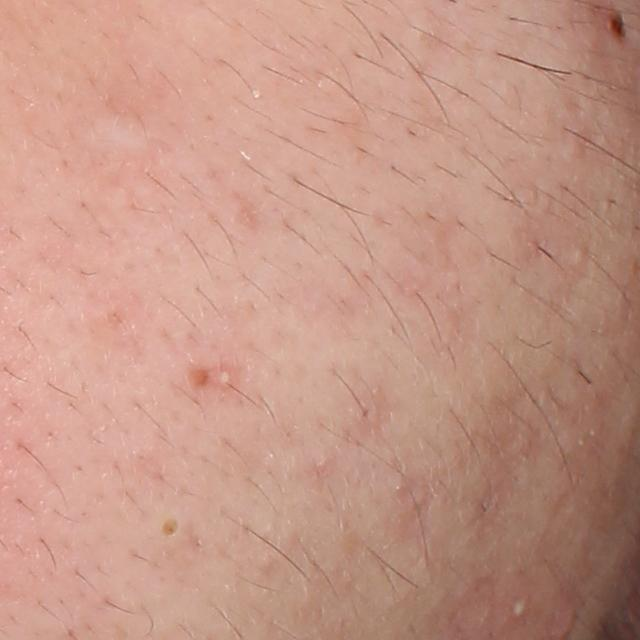comedo: (156, 515, 182, 544), (570, 246, 589, 273)
hypertrophic_scar: (85, 107, 156, 159)
pustule: (509, 590, 534, 620)
